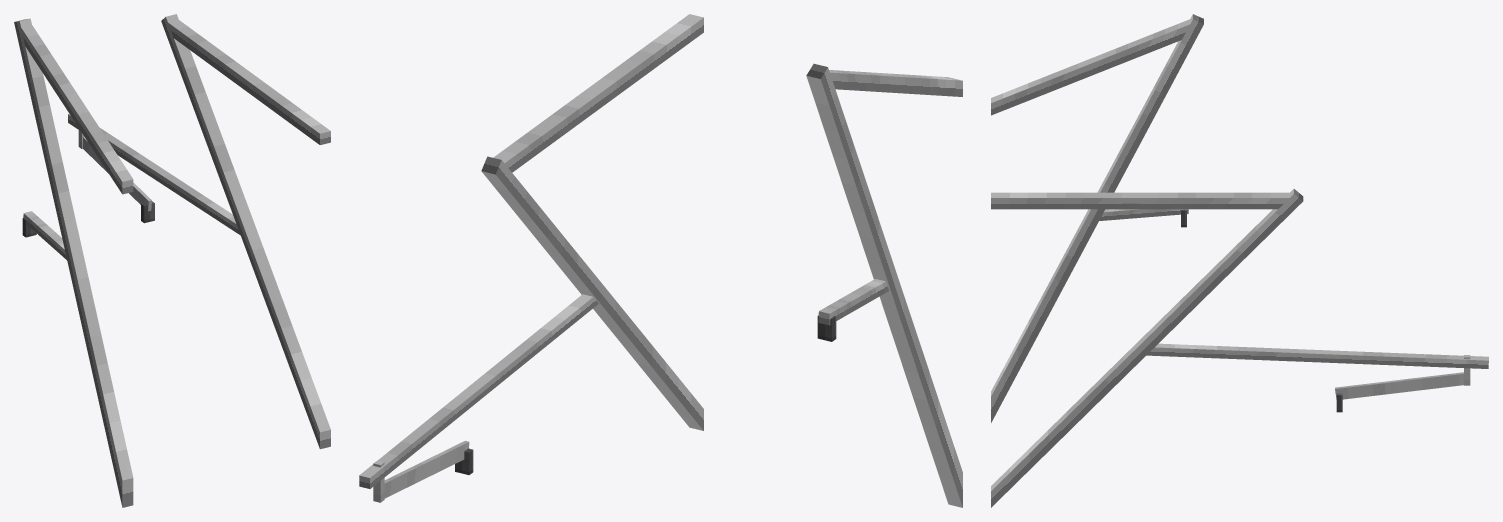
File: cantilever_outer_16px.obj
3 renders of one model, left to right at view 1: azimuth 30°, elevation 25°; view 2: azimuth 150°, elevation 25°; view 3: azimuth 270°, elevation 25°, orthographic. The views are drawn at different scales.
Visible parts, largest first — view 1: e9248a35-218d-459a-be79-bffe1f366017, ad886c52-befe-488d-8503-d567c1fd03cf, e973f0fd-6f65-481e-b0b6-9265268c8d0c, fc68c76a-7890-46d4-9720-4305d2807973, 2fbd28db-4aec-4817-b530-f12d6eb5c617, 79e12fd5-a731-446a-8965-9b4de13b2f15, 985a91bc-86ef-4deb-b848-9c0a1735ff72; view 2: e9248a35-218d-459a-be79-bffe1f366017, ad886c52-befe-488d-8503-d567c1fd03cf, e973f0fd-6f65-481e-b0b6-9265268c8d0c, 2fbd28db-4aec-4817-b530-f12d6eb5c617, fc68c76a-7890-46d4-9720-4305d2807973, 985a91bc-86ef-4deb-b848-9c0a1735ff72, 79e12fd5-a731-446a-8965-9b4de13b2f15; view 3: ad886c52-befe-488d-8503-d567c1fd03cf, e9248a35-218d-459a-be79-bffe1f366017, e973f0fd-6f65-481e-b0b6-9265268c8d0c, 2fbd28db-4aec-4817-b530-f12d6eb5c617, fc68c76a-7890-46d4-9720-4305d2807973, 985a91bc-86ef-4deb-b848-9c0a1735ff72, 79e12fd5-a731-446a-8965-9b4de13b2f15.
Part boxes in pixels (<box>): e9248a35-218d-459a-be79-bffe1f366017: <box>14,18,133,507</box>; ad886c52-befe-488d-8503-d567c1fd03cf: <box>161,14,330,449</box>; e973f0fd-6f65-481e-b0b6-9265268c8d0c: <box>168,20,330,144</box>; fc68c76a-7890-46d4-9720-4305d2807973: <box>21,25,133,194</box>; 2fbd28db-4aec-4817-b530-f12d6eb5c617: <box>68,114,240,235</box>; 79e12fd5-a731-446a-8965-9b4de13b2f15: <box>23,211,66,259</box>; 985a91bc-86ef-4deb-b848-9c0a1735ff72: <box>83,137,151,211</box>; e9248a35-218d-459a-be79-bffe1f366017: <box>806,63,962,507</box>; ad886c52-befe-488d-8503-d567c1fd03cf: <box>481,156,703,430</box>; e973f0fd-6f65-481e-b0b6-9265268c8d0c: <box>493,14,703,172</box>; 2fbd28db-4aec-4817-b530-f12d6eb5c617: <box>359,294,598,488</box>; fc68c76a-7890-46d4-9720-4305d2807973: <box>829,70,962,96</box>; 985a91bc-86ef-4deb-b848-9c0a1735ff72: <box>384,440,469,498</box>; 79e12fd5-a731-446a-8965-9b4de13b2f15: <box>818,279,888,325</box>; ad886c52-befe-488d-8503-d567c1fd03cf: <box>991,189,1303,507</box>; e9248a35-218d-459a-be79-bffe1f366017: <box>991,14,1203,422</box>; e973f0fd-6f65-481e-b0b6-9265268c8d0c: <box>991,192,1289,209</box>; 2fbd28db-4aec-4817-b530-f12d6eb5c617: <box>1146,343,1488,368</box>; fc68c76a-7890-46d4-9720-4305d2807973: <box>991,19,1190,115</box>; 985a91bc-86ef-4deb-b848-9c0a1735ff72: <box>1335,372,1463,399</box>; 79e12fd5-a731-446a-8965-9b4de13b2f15: <box>1099,209,1188,220</box>.
Size of the model in its own units: 1.19 by 2.24 by 2.5.
